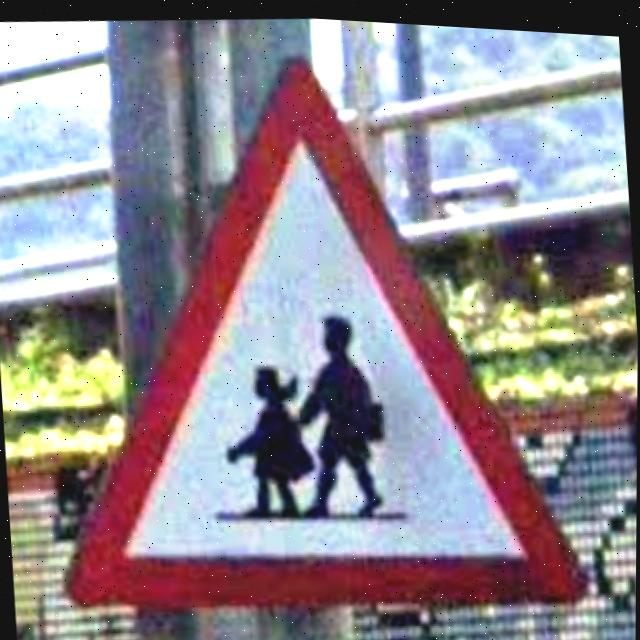childrencross: (70, 54, 588, 604)
